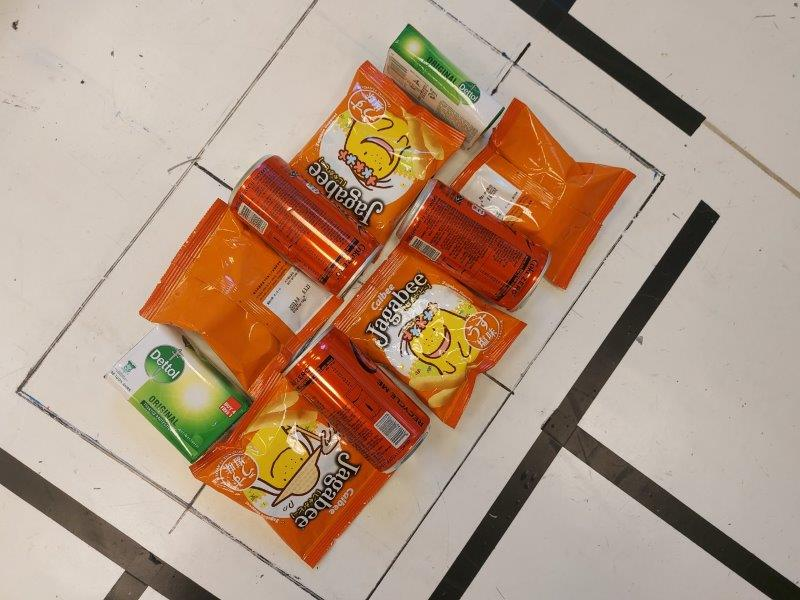Coke: (224, 154, 384, 299), (283, 324, 435, 475), (395, 176, 553, 315)
Dettol: (105, 322, 255, 465), (382, 24, 503, 150)
Jagabee: (138, 199, 343, 401), (190, 374, 395, 568), (334, 238, 528, 429), (454, 98, 638, 291), (288, 60, 467, 247)
